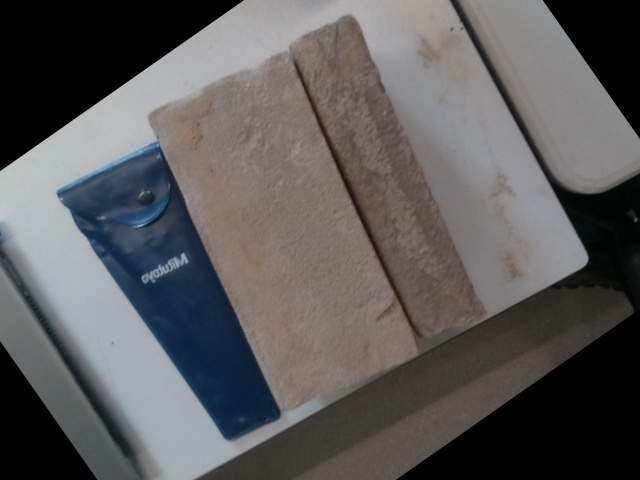brick: (150, 57, 415, 407)
